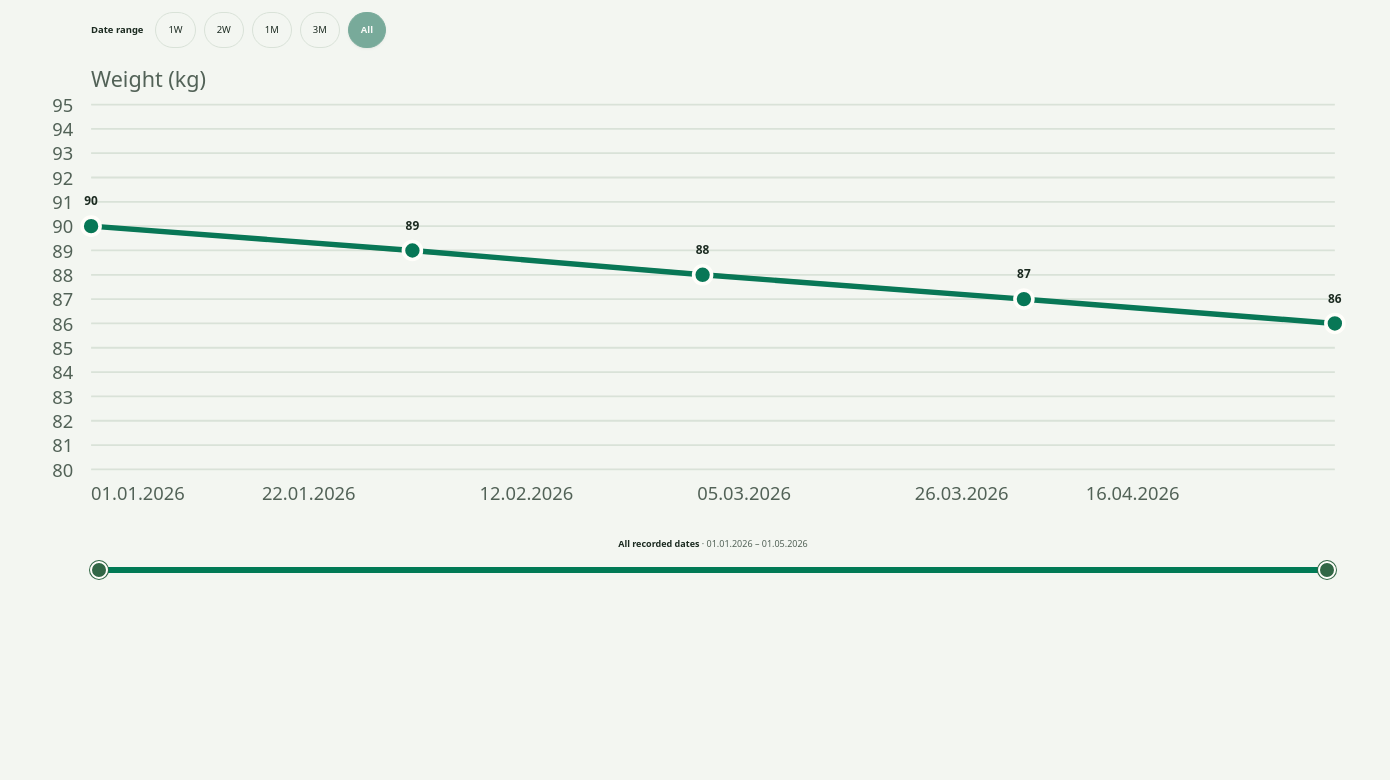
Scenario: applies date ranges and sliders, clips trends, and suppresses reference lines
Click the button named "Show last 1 month" at (272, 30), box 252,12 -> 292,48
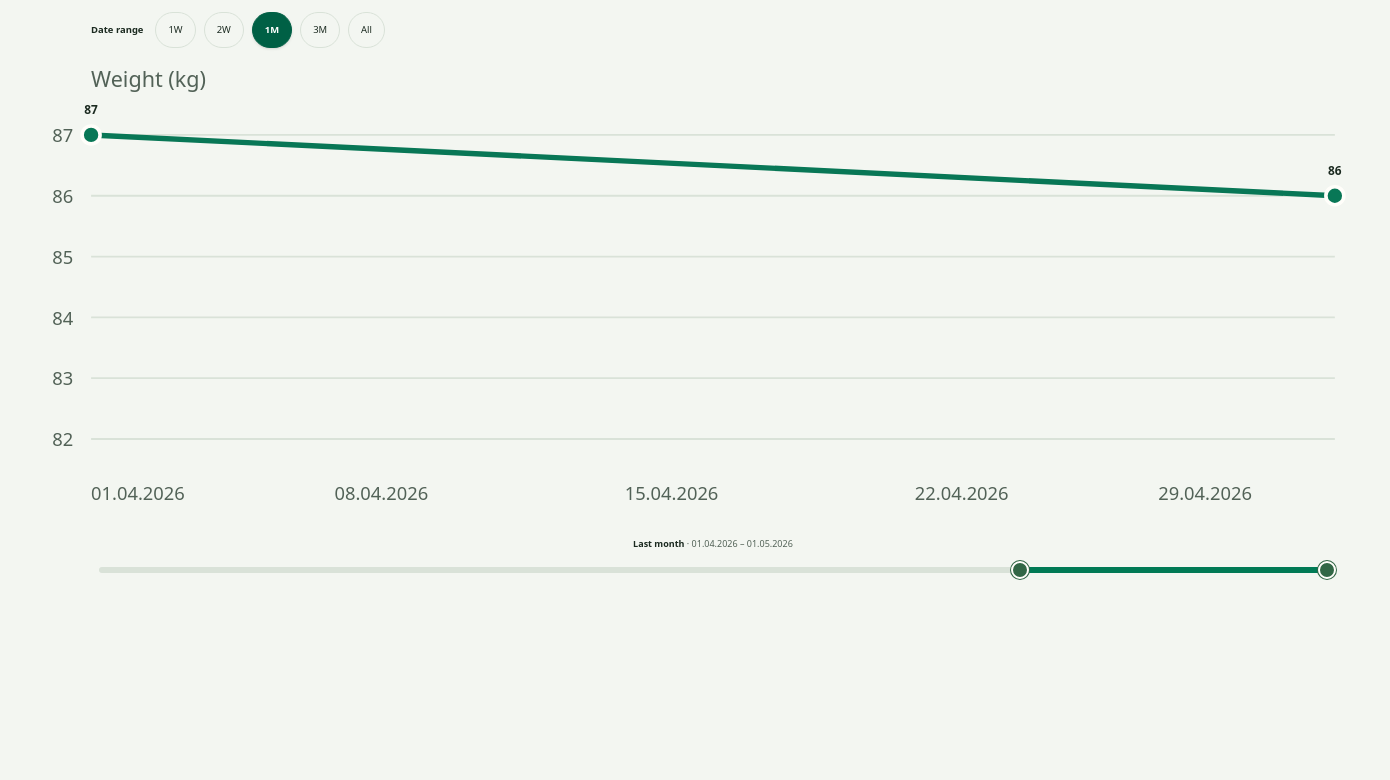
Expected: the element named "Visible date range" shows "01.04.2026 – 01.05.2026", 633,537 -> 793,550
Click the button named "Show last 3 months" at (320, 30), box 300,12 -> 340,48
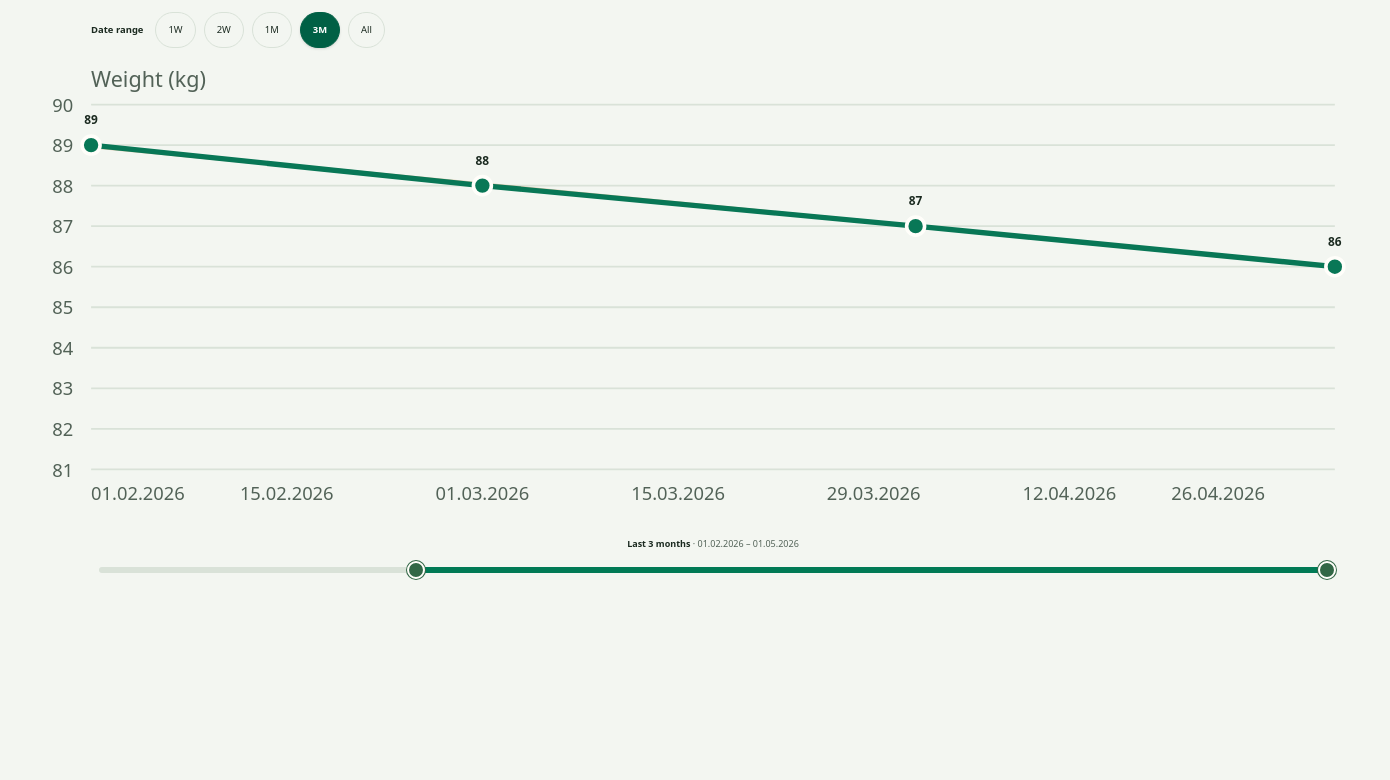
Click the button with aria-label "Show all dates" at (367, 30), box 348,12 -> 385,48
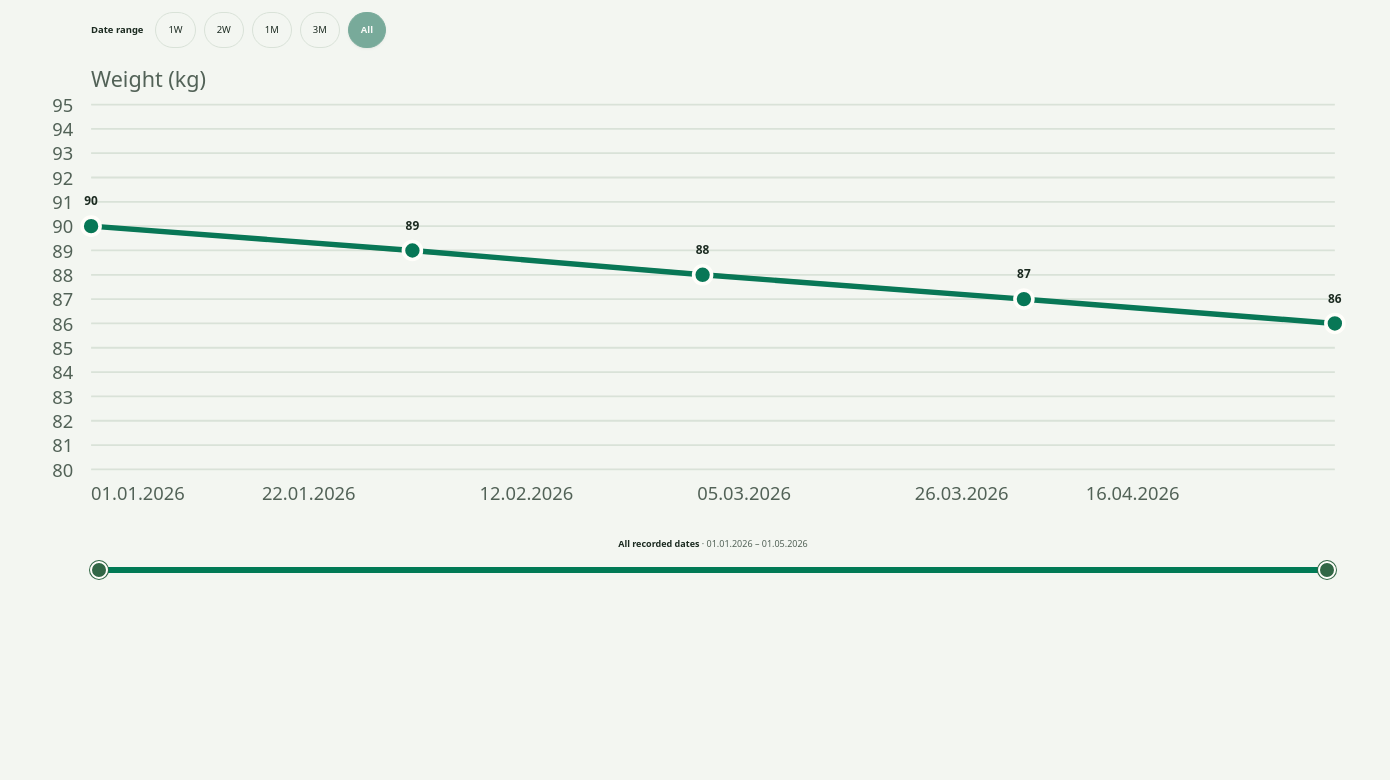
Press ArrowRight in the slider named "Visible range start", box 85,556 -> 113,584
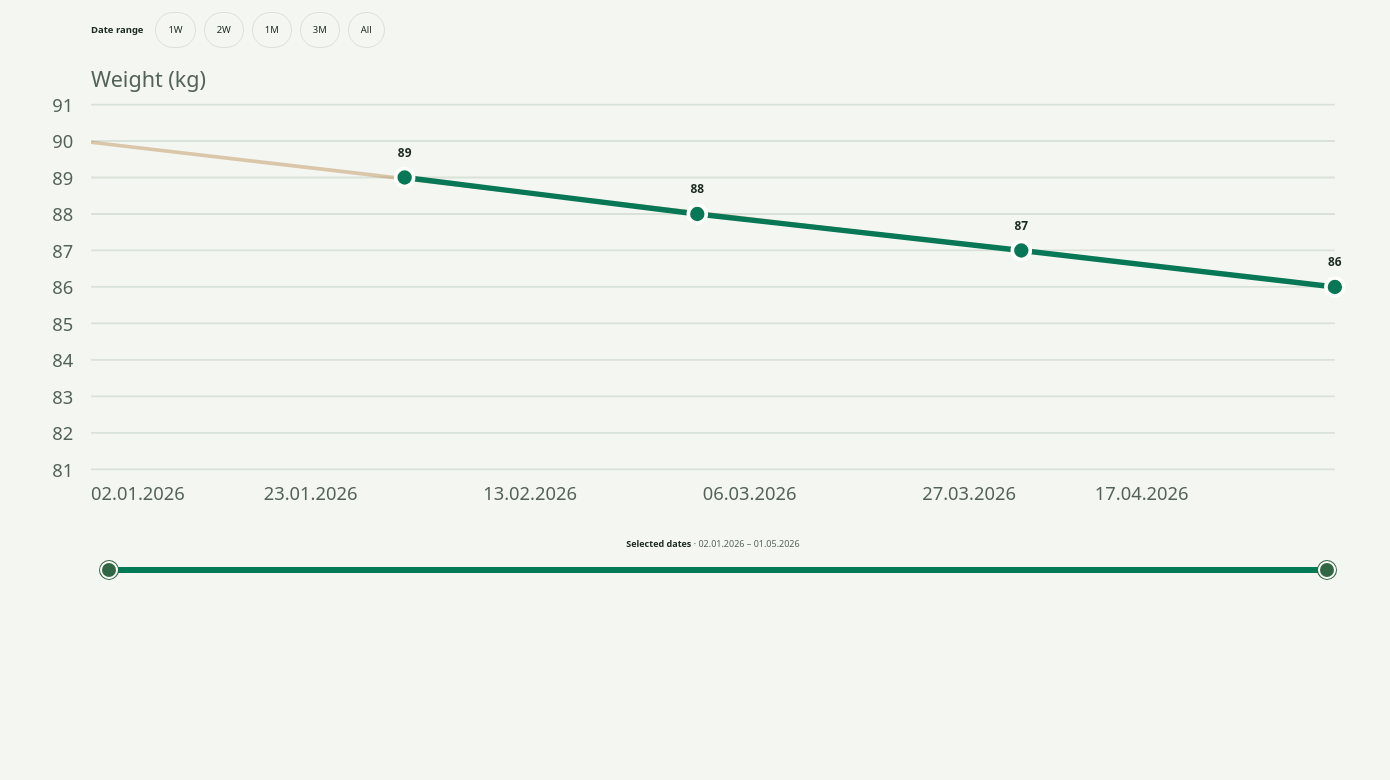
Expected: the element named "Chart date range controls" is shown, 91,12 -> 385,48
Expected: the slider named "Visible range start" has attribute aria-valuetext="02.01.2026", 95,556 -> 123,584
Press ArrowLeft in the slider named "Visible range end", box 1313,556 -> 1341,584
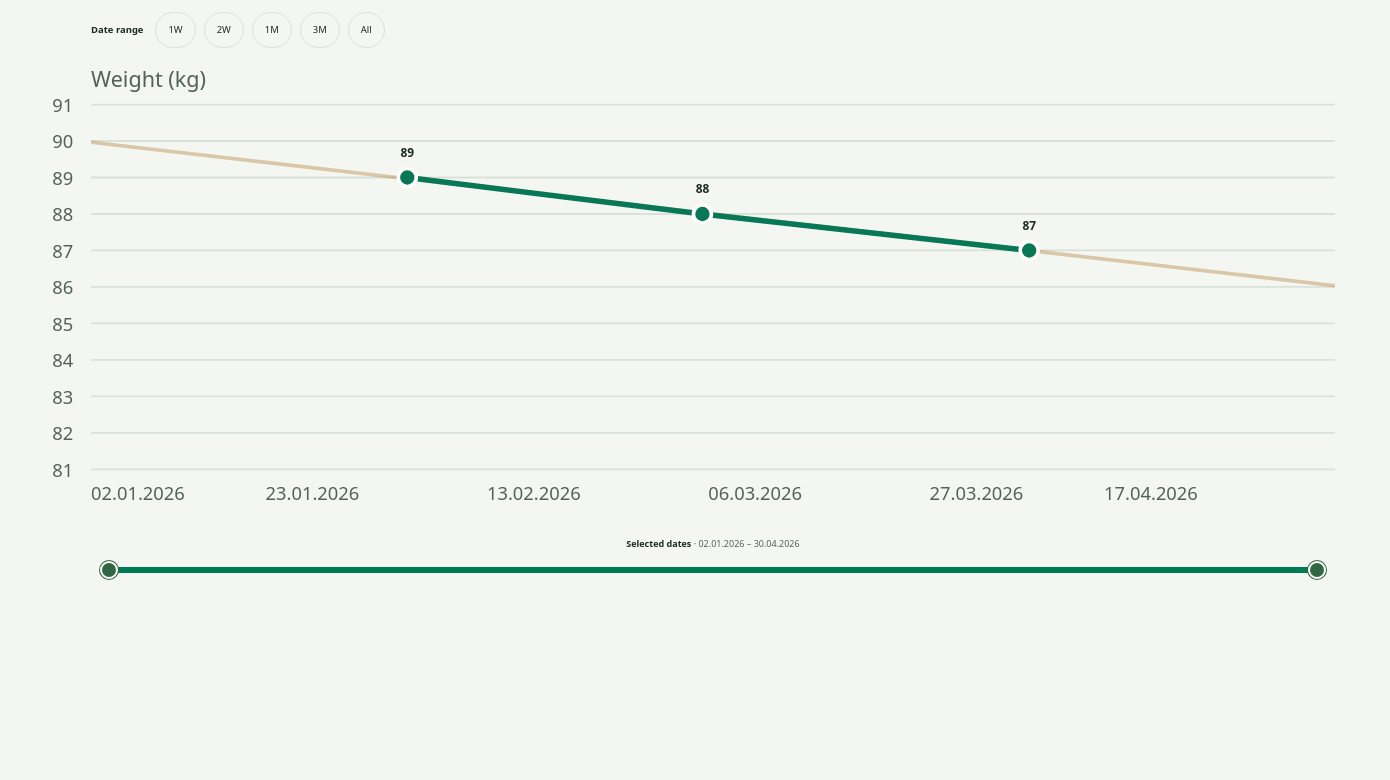
Expected: the element named "Visible date range" shows "02.01.2026 – 30.04.2026", 626,537 -> 800,550
